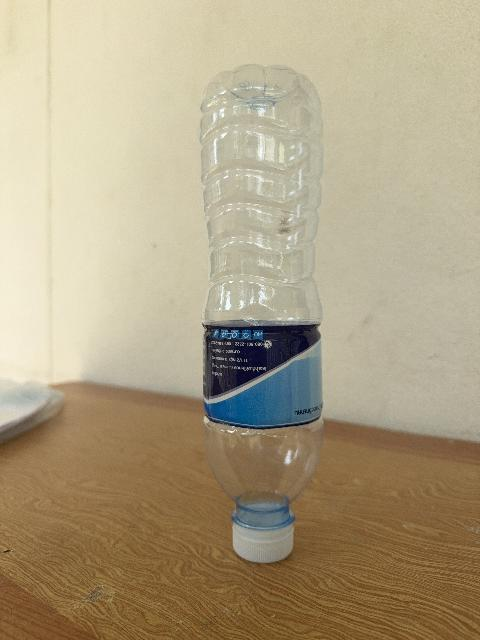bottle: (201, 65, 322, 562)
